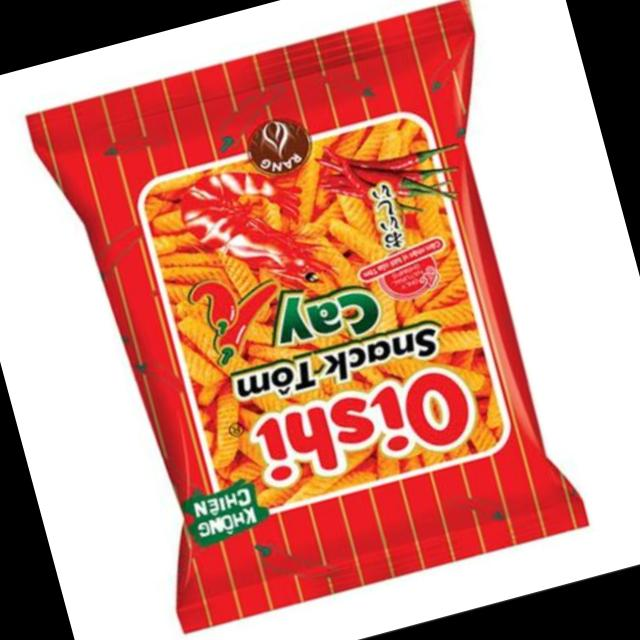KemasanPlastik: (13, 0, 615, 640)
